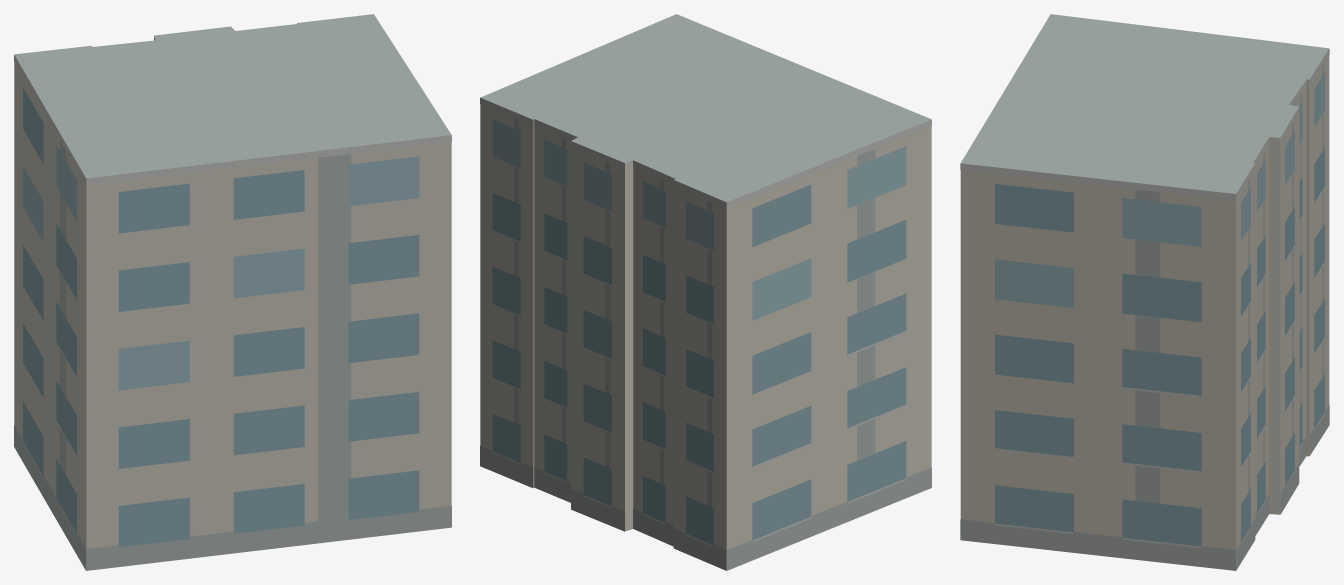
The model's file is survey-upis-32638734.glb.
The picture shows the model from 3 angles, left to right: view 1: azimuth 30°, elevation 25°; view 2: azimuth 150°, elevation 25°; view 3: azimuth 270°, elevation 25°; orthographic projection. The views are drawn at different scales.
Visible parts, largest first — view 1: survey-upis-32638734.tmp; view 2: survey-upis-32638734.tmp; view 3: survey-upis-32638734.tmp.
Boxes of the visible parts, <box> form: survey-upis-32638734.tmp: <box>14,14,451,570</box>; survey-upis-32638734.tmp: <box>480,14,931,570</box>; survey-upis-32638734.tmp: <box>960,14,1329,570</box>.
Bounding box in the file's own units: 14.05 × 13.7 × 12.17.
